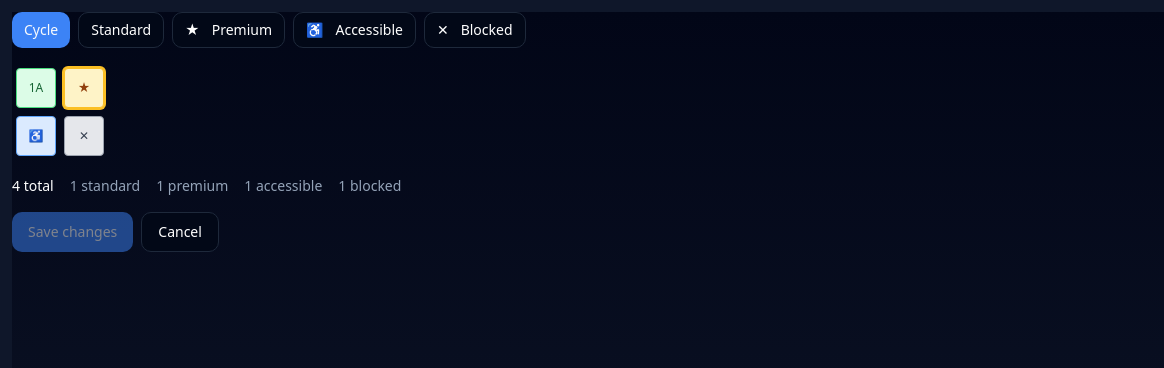
Test: SeatMapEditor › click to cycle seat type › cycles STANDARD to PREMIUM on click
The width and height of the screenshot is (1164, 368).
Click the cell named "Seat 1A, Standard" at (36, 88), box [16,68,56,108]
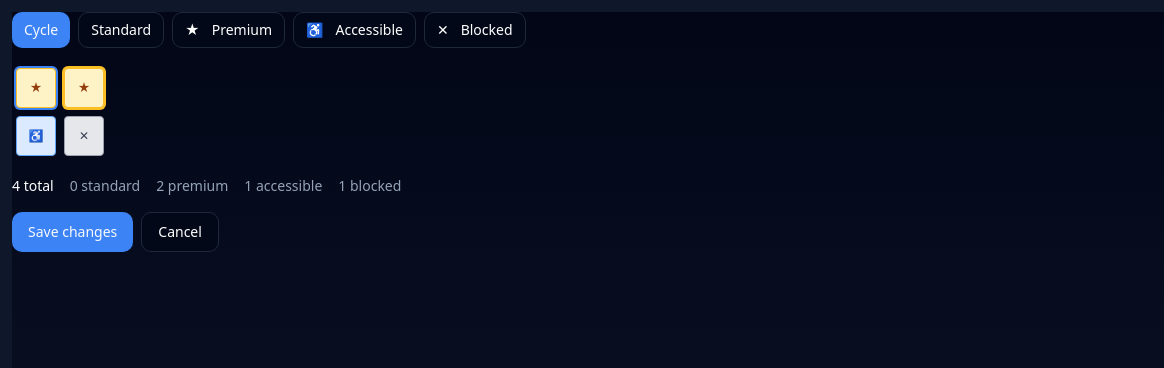
Expected: the cell named "Seat 1A, Premium" is shown, [16,68,56,108]
